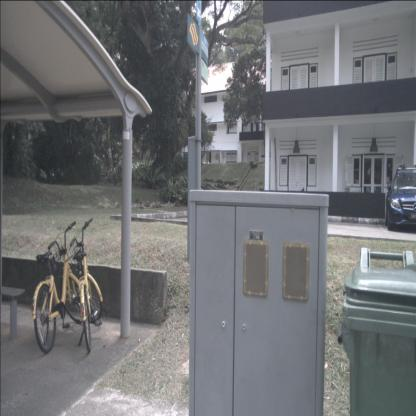vehicle-bicycle: (29, 221, 85, 354), (65, 217, 103, 353)
vehicle-car: (384, 164, 416, 232)
